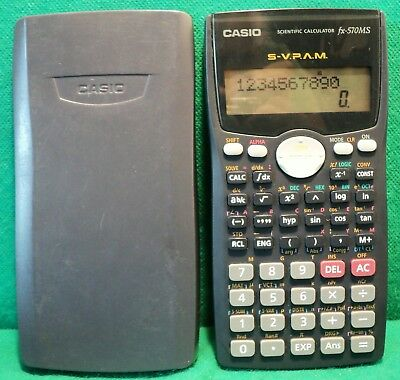Calculator: (199, 4, 389, 373)
